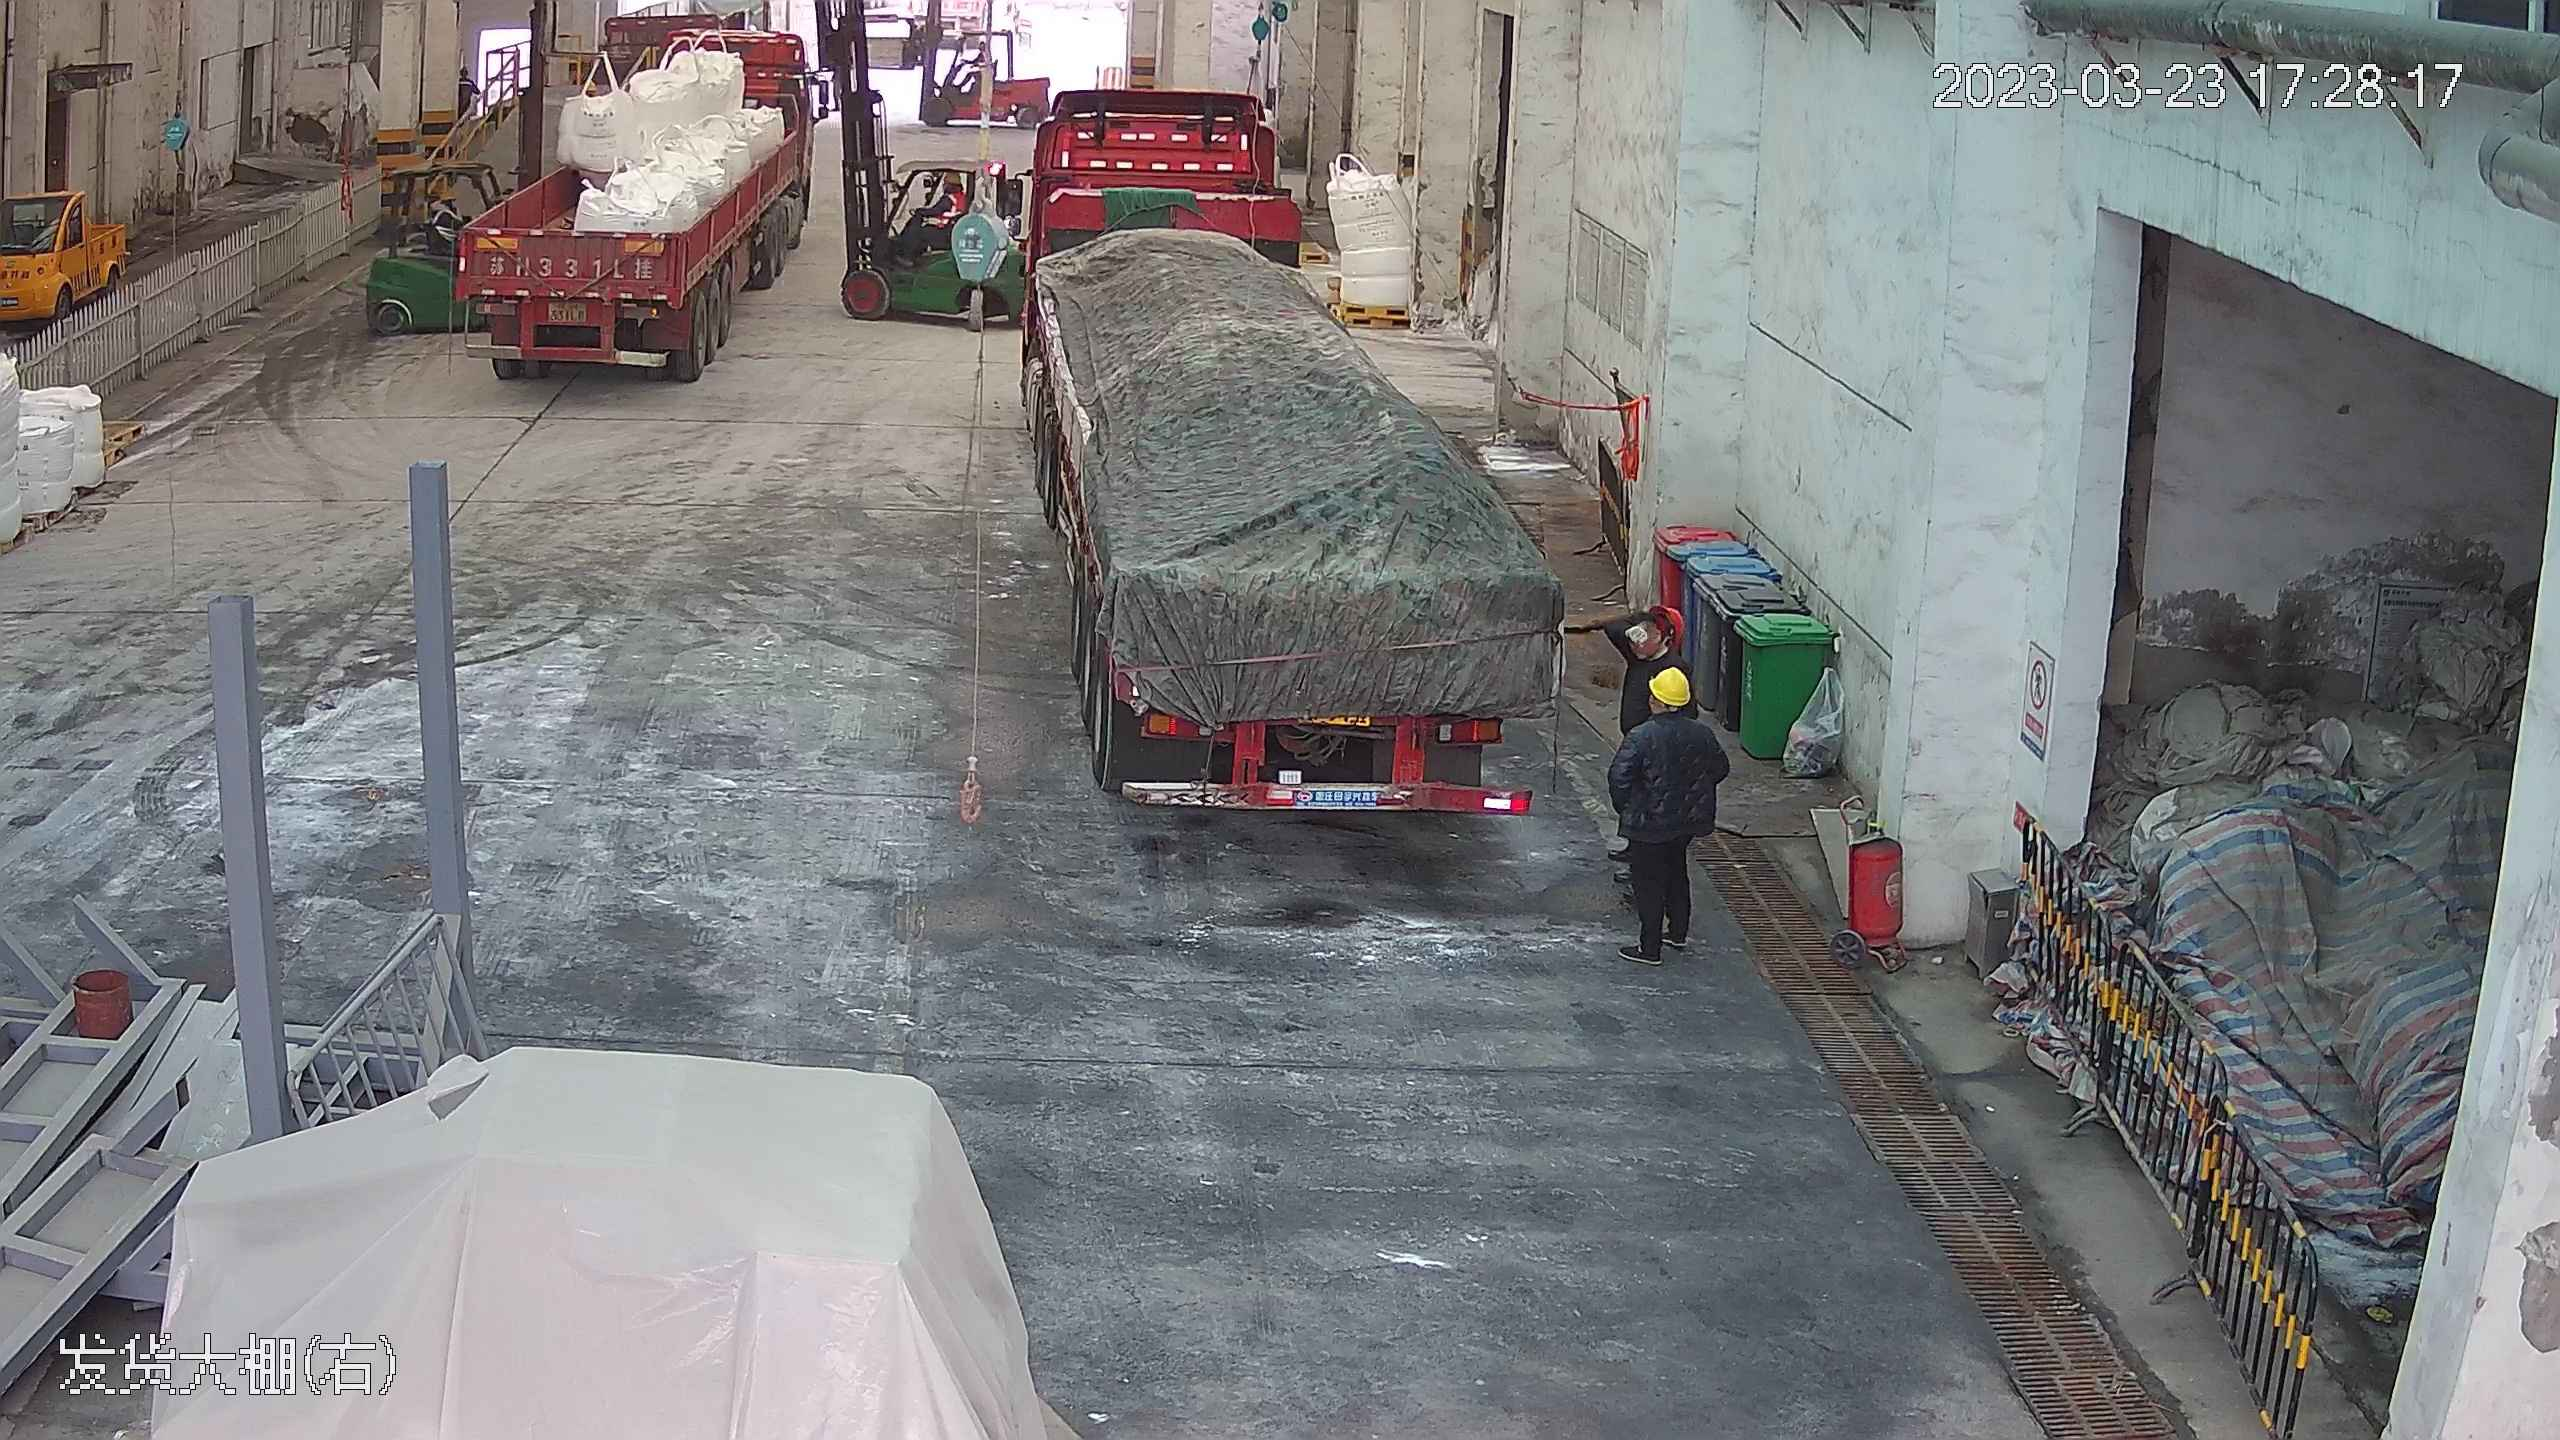head: (1622, 661, 1717, 765), (926, 169, 961, 205)
helmet: (1643, 662, 1695, 706), (944, 170, 962, 186)
people: (1609, 656, 1721, 967), (908, 167, 958, 250)
truck: (1006, 49, 1584, 825), (445, 8, 822, 386)
